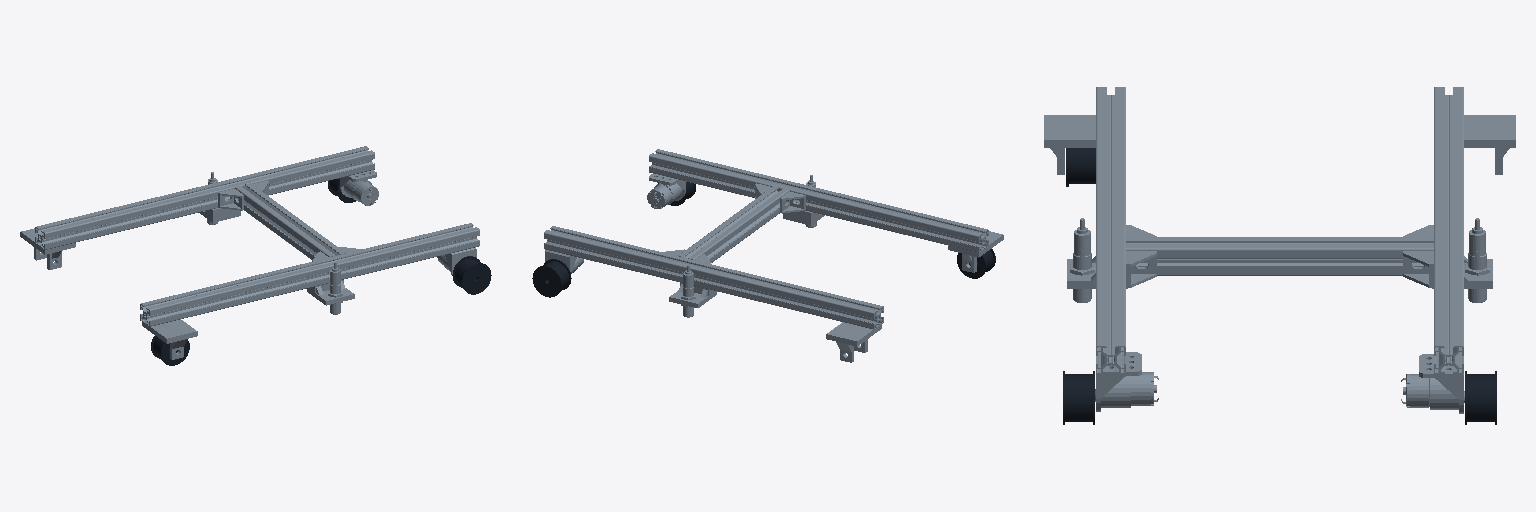
URDF robot description (RailTwin_CAD):
<?xml version='1.0' encoding='utf-8'?>
<robot name="RailTwin_CAD">
  <link name="world" />
  <link name="chassis">
    <inertial>
      <origin xyz="0 0 0.09" rpy="0 0 0" />
      <mass value="3" />
      <inertia ixx="0.045" iyy="0.095" izz="0.13" ixy="0" ixz="0" iyz="0" />
    </inertial>
    <visual>
      <geometry>
        <mesh filename="chassis.stl" scale="1 1 1" />
      </geometry>
      <material name="chassis">
        <color rgba=".55 .60 .65 1" />
      </material>
    </visual>
  </link>
  <joint name="cart_free" type="floating">
    <parent link="world" />
    <child link="chassis" />
    <origin xyz="0 0 0" rpy="0 0 0" />
  </joint>
  <link name="DriveWheel_1">
    <inertial>
      <origin xyz="0 0 0" rpy="0 0 0" />
      <mass value="0.1" />
      <inertia ixx="2.2e-05" iyy="2.8e-05" izz="2.2e-05" ixy="0" ixz="0" iyz="0" />
    </inertial>
    <visual>
      <geometry>
        <mesh filename="DriveWheel_1.stl" scale="1 1 1" />
      </geometry>
      <material name="DriveWheel_1">
        <color rgba=".15 .18 .22 1" />
      </material>
    </visual>
  </link>
  <joint name="DriveWheel_1_axle" type="continuous">
    <parent link="chassis" />
    <child link="DriveWheel_1" />
    <origin xyz="0.27587300000000003 0.1965 0.04611899999999999" rpy="0 0 0" />
    <axis xyz="0 1 0" />
  </joint>
  <link name="DriveWheel001_1">
    <inertial>
      <origin xyz="0 0 0" rpy="0 0 0" />
      <mass value="0.1" />
      <inertia ixx="2.2e-05" iyy="2.8e-05" izz="2.2e-05" ixy="0" ixz="0" iyz="0" />
    </inertial>
    <visual>
      <geometry>
        <mesh filename="DriveWheel001_1.stl" scale="1 1 1" />
      </geometry>
      <material name="DriveWheel001_1">
        <color rgba=".15 .18 .22 1" />
      </material>
    </visual>
  </link>
  <joint name="DriveWheel001_1_axle" type="continuous">
    <parent link="chassis" />
    <child link="DriveWheel001_1" />
    <origin xyz="0.27587300000000003 -0.19651400000000002 0.04611899999999999" rpy="0 0 0" />
    <axis xyz="0 1 0" />
  </joint>
  <link name="IdleWheel_0">
    <inertial>
      <origin xyz="0 0 0" rpy="0 0 0" />
      <mass value="0.1" />
      <inertia ixx="2.2e-05" iyy="2.8e-05" izz="2.2e-05" ixy="0" ixz="0" iyz="0" />
    </inertial>
    <visual>
      <geometry>
        <mesh filename="IdleWheel_0.stl" scale="1 1 1" />
      </geometry>
      <material name="IdleWheel_0">
        <color rgba=".15 .18 .22 1" />
      </material>
    </visual>
  </link>
  <joint name="IdleWheel_0_axle" type="continuous">
    <parent link="chassis" />
    <child link="IdleWheel_0" />
    <origin xyz="-0.27 -0.193 0.0485" rpy="0 0 0" />
    <axis xyz="0 1 0" />
  </joint>
  <link name="IdleWheel001_0">
    <inertial>
      <origin xyz="0 0 0" rpy="0 0 0" />
      <mass value="0.1" />
      <inertia ixx="2.2e-05" iyy="2.8e-05" izz="2.2e-05" ixy="0" ixz="0" iyz="0" />
    </inertial>
    <visual>
      <geometry>
        <mesh filename="IdleWheel001_0.stl" scale="1 1 1" />
      </geometry>
      <material name="IdleWheel001_0">
        <color rgba=".15 .18 .22 1" />
      </material>
    </visual>
  </link>
  <joint name="IdleWheel001_0_axle" type="continuous">
    <parent link="chassis" />
    <child link="IdleWheel001_0" />
    <origin xyz="-0.27 0.193 0.0485" rpy="0 0 0" />
    <axis xyz="0 1 0" />
  </joint>
</robot>

--- What the picture shows (computed from the rendered views, not written in the file) ---
The picture shows the robot from 3 angles, left to right: view 1: azimuth 30°, elevation 25°; view 2: azimuth 150°, elevation 25°; view 3: azimuth 270°, elevation 25°; orthographic projection.
Robot: RailTwin_CAD — 6 links, 5 joints (4 continuous, 1 floating); root link world; default pose: every joint at zero.
Links seen in each view (by area): view 1: chassis, DriveWheel001_1, IdleWheel_0; view 2: chassis, DriveWheel_1; view 3: chassis, DriveWheel_1, DriveWheel001_1, IdleWheel_0.
Boxes of the visible links, left/top/right/bottom form: chassis: left=20, top=146, right=479, bottom=359; DriveWheel001_1: left=452, top=256, right=491, bottom=294; IdleWheel_0: left=151, top=336, right=189, bottom=365; chassis: left=544, top=149, right=1003, bottom=362; DriveWheel_1: left=532, top=259, right=571, bottom=297; chassis: left=1044, top=87, right=1515, bottom=413; DriveWheel_1: left=1465, top=371, right=1496, bottom=424; DriveWheel001_1: left=1063, top=371, right=1094, bottom=424; IdleWheel_0: left=1066, top=148, right=1095, bottom=186.
Size in the robot's own frame: 0.6024 by 0.46 by 0.1046 metres.
Meshes: 5 distinct files referenced, 4 mesh visuals loaded (4 binary STL); not drawn: 1 (reference not matched to a file when rendering).
